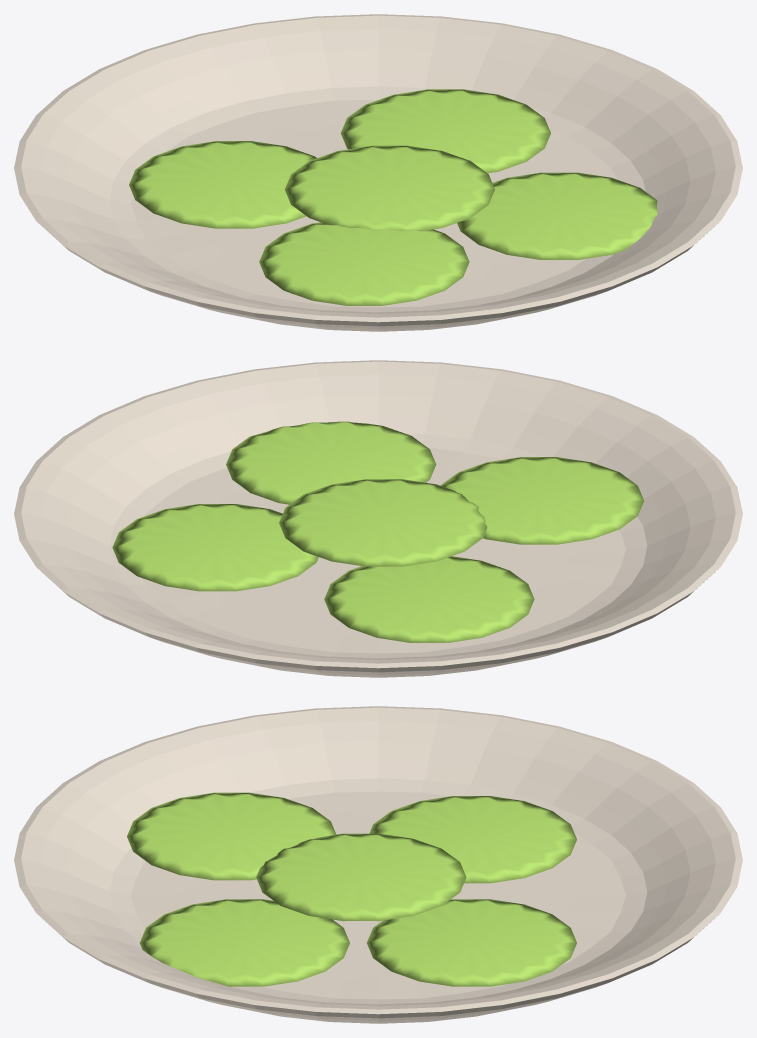
The model's file is KUE cucur.fbx.
3 renders of one model, top to bottom at view 1: azimuth 30°, elevation 25°; view 2: azimuth 150°, elevation 25°; view 3: azimuth 270°, elevation 25°, orthographic.
Visible parts, largest first — view 1: Cylinder, Cylinder.009, Cylinder.007, Cylinder.005, Cylinder.001, Cylinder.003; view 2: Cylinder, Cylinder.009, Cylinder.001, Cylinder.003, Cylinder.007, Cylinder.005; view 3: Cylinder, Cylinder.009, Cylinder.003, Cylinder.005, Cylinder.007, Cylinder.001.
Boxes of the visible parts, x1,y1,x2,y2 form: Cylinder: (14, 14, 742, 331); Cylinder.009: (284, 145, 494, 231); Cylinder.007: (259, 222, 469, 305); Cylinder.005: (457, 172, 657, 259); Cylinder.001: (129, 141, 316, 228); Cylinder.003: (340, 89, 550, 173); Cylinder: (14, 360, 742, 677); Cylinder.009: (279, 479, 487, 566); Cylinder.001: (324, 556, 534, 642); Cylinder.003: (112, 504, 318, 591); Cylinder.007: (440, 457, 643, 544); Cylinder.005: (226, 421, 436, 504); Cylinder: (14, 706, 742, 1023); Cylinder.009: (256, 833, 466, 921); Cylinder.003: (367, 899, 576, 986); Cylinder.005: (140, 899, 349, 986); Cylinder.007: (127, 792, 336, 880); Cylinder.001: (369, 796, 576, 883).
Bounding box in the file's own units: 231 × 19.71 × 231.
